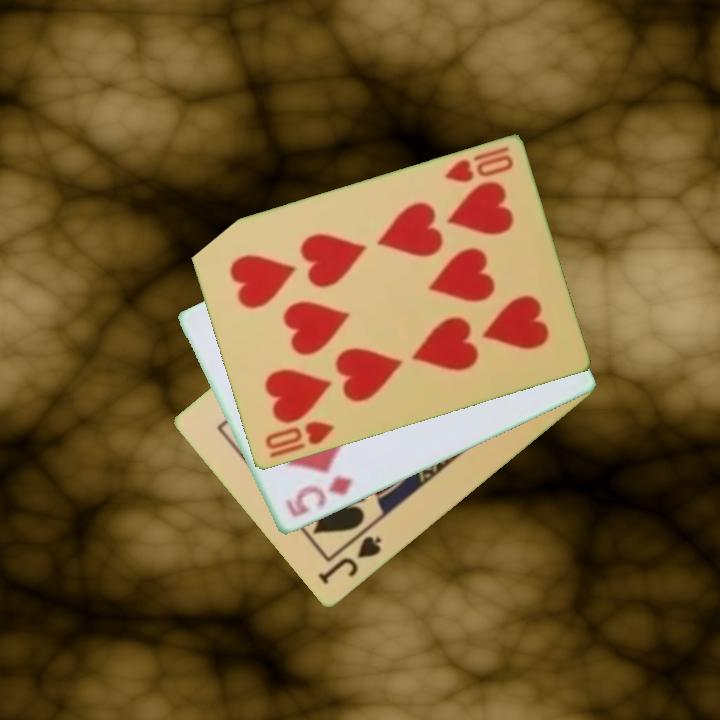10h: (261, 418, 337, 461), (440, 143, 516, 186)
5d: (282, 472, 356, 521)
Js: (314, 533, 385, 588)
